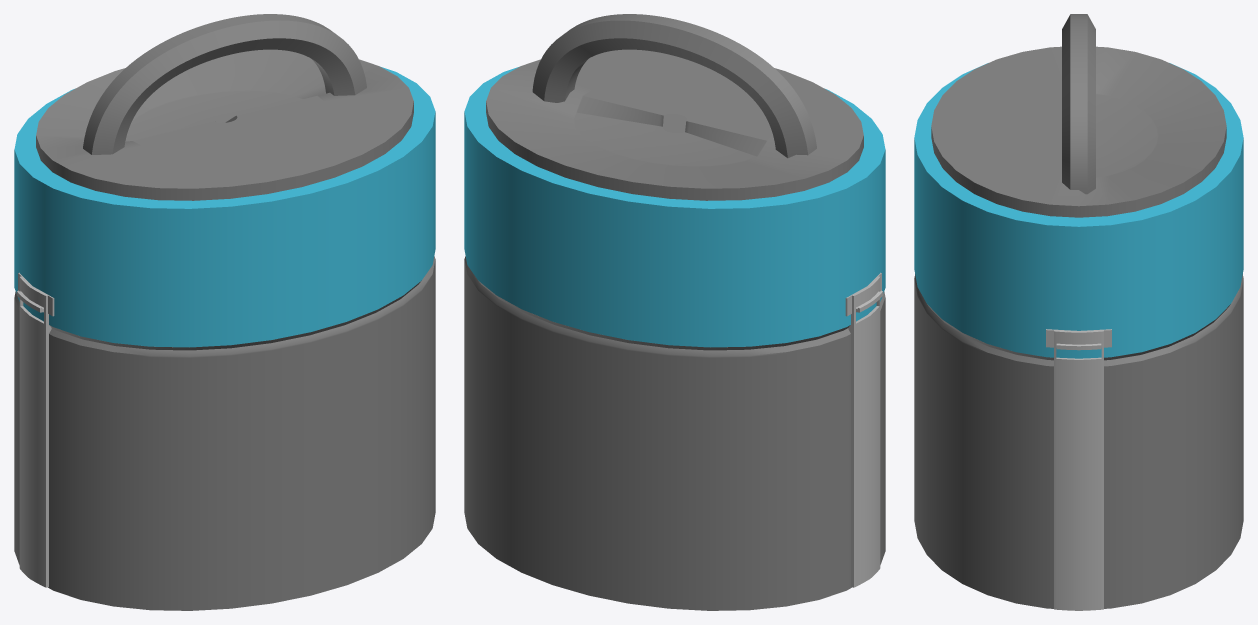
The model's file is Lunch-box1.fbx.
3 views of the same model, side by side, from view 1: azimuth 30°, elevation 25°; view 2: azimuth 150°, elevation 25°; view 3: azimuth 270°, elevation 25° (orthographic). The views are drawn at different scales.
Visible parts, largest first — view 1: Top.001, Bottom.001, Handle_L.001; view 2: Top.001, Bottom.001, Handle_L.001; view 3: Top.001, Bottom.001, Handle_R.001.
Boxes of the visible parts, <box> form: Top.001: <box>14,14,435,347</box>; Bottom.001: <box>14,256,435,610</box>; Handle_L.001: <box>19,276,51,587</box>; Top.001: <box>464,14,885,347</box>; Bottom.001: <box>464,256,885,610</box>; Handle_L.001: <box>848,276,880,587</box>; Top.001: <box>914,14,1243,358</box>; Bottom.001: <box>914,274,1243,608</box>; Handle_R.001: <box>1054,330,1103,610</box>.
Size of the model in its own units: 412 by 504 by 310.
